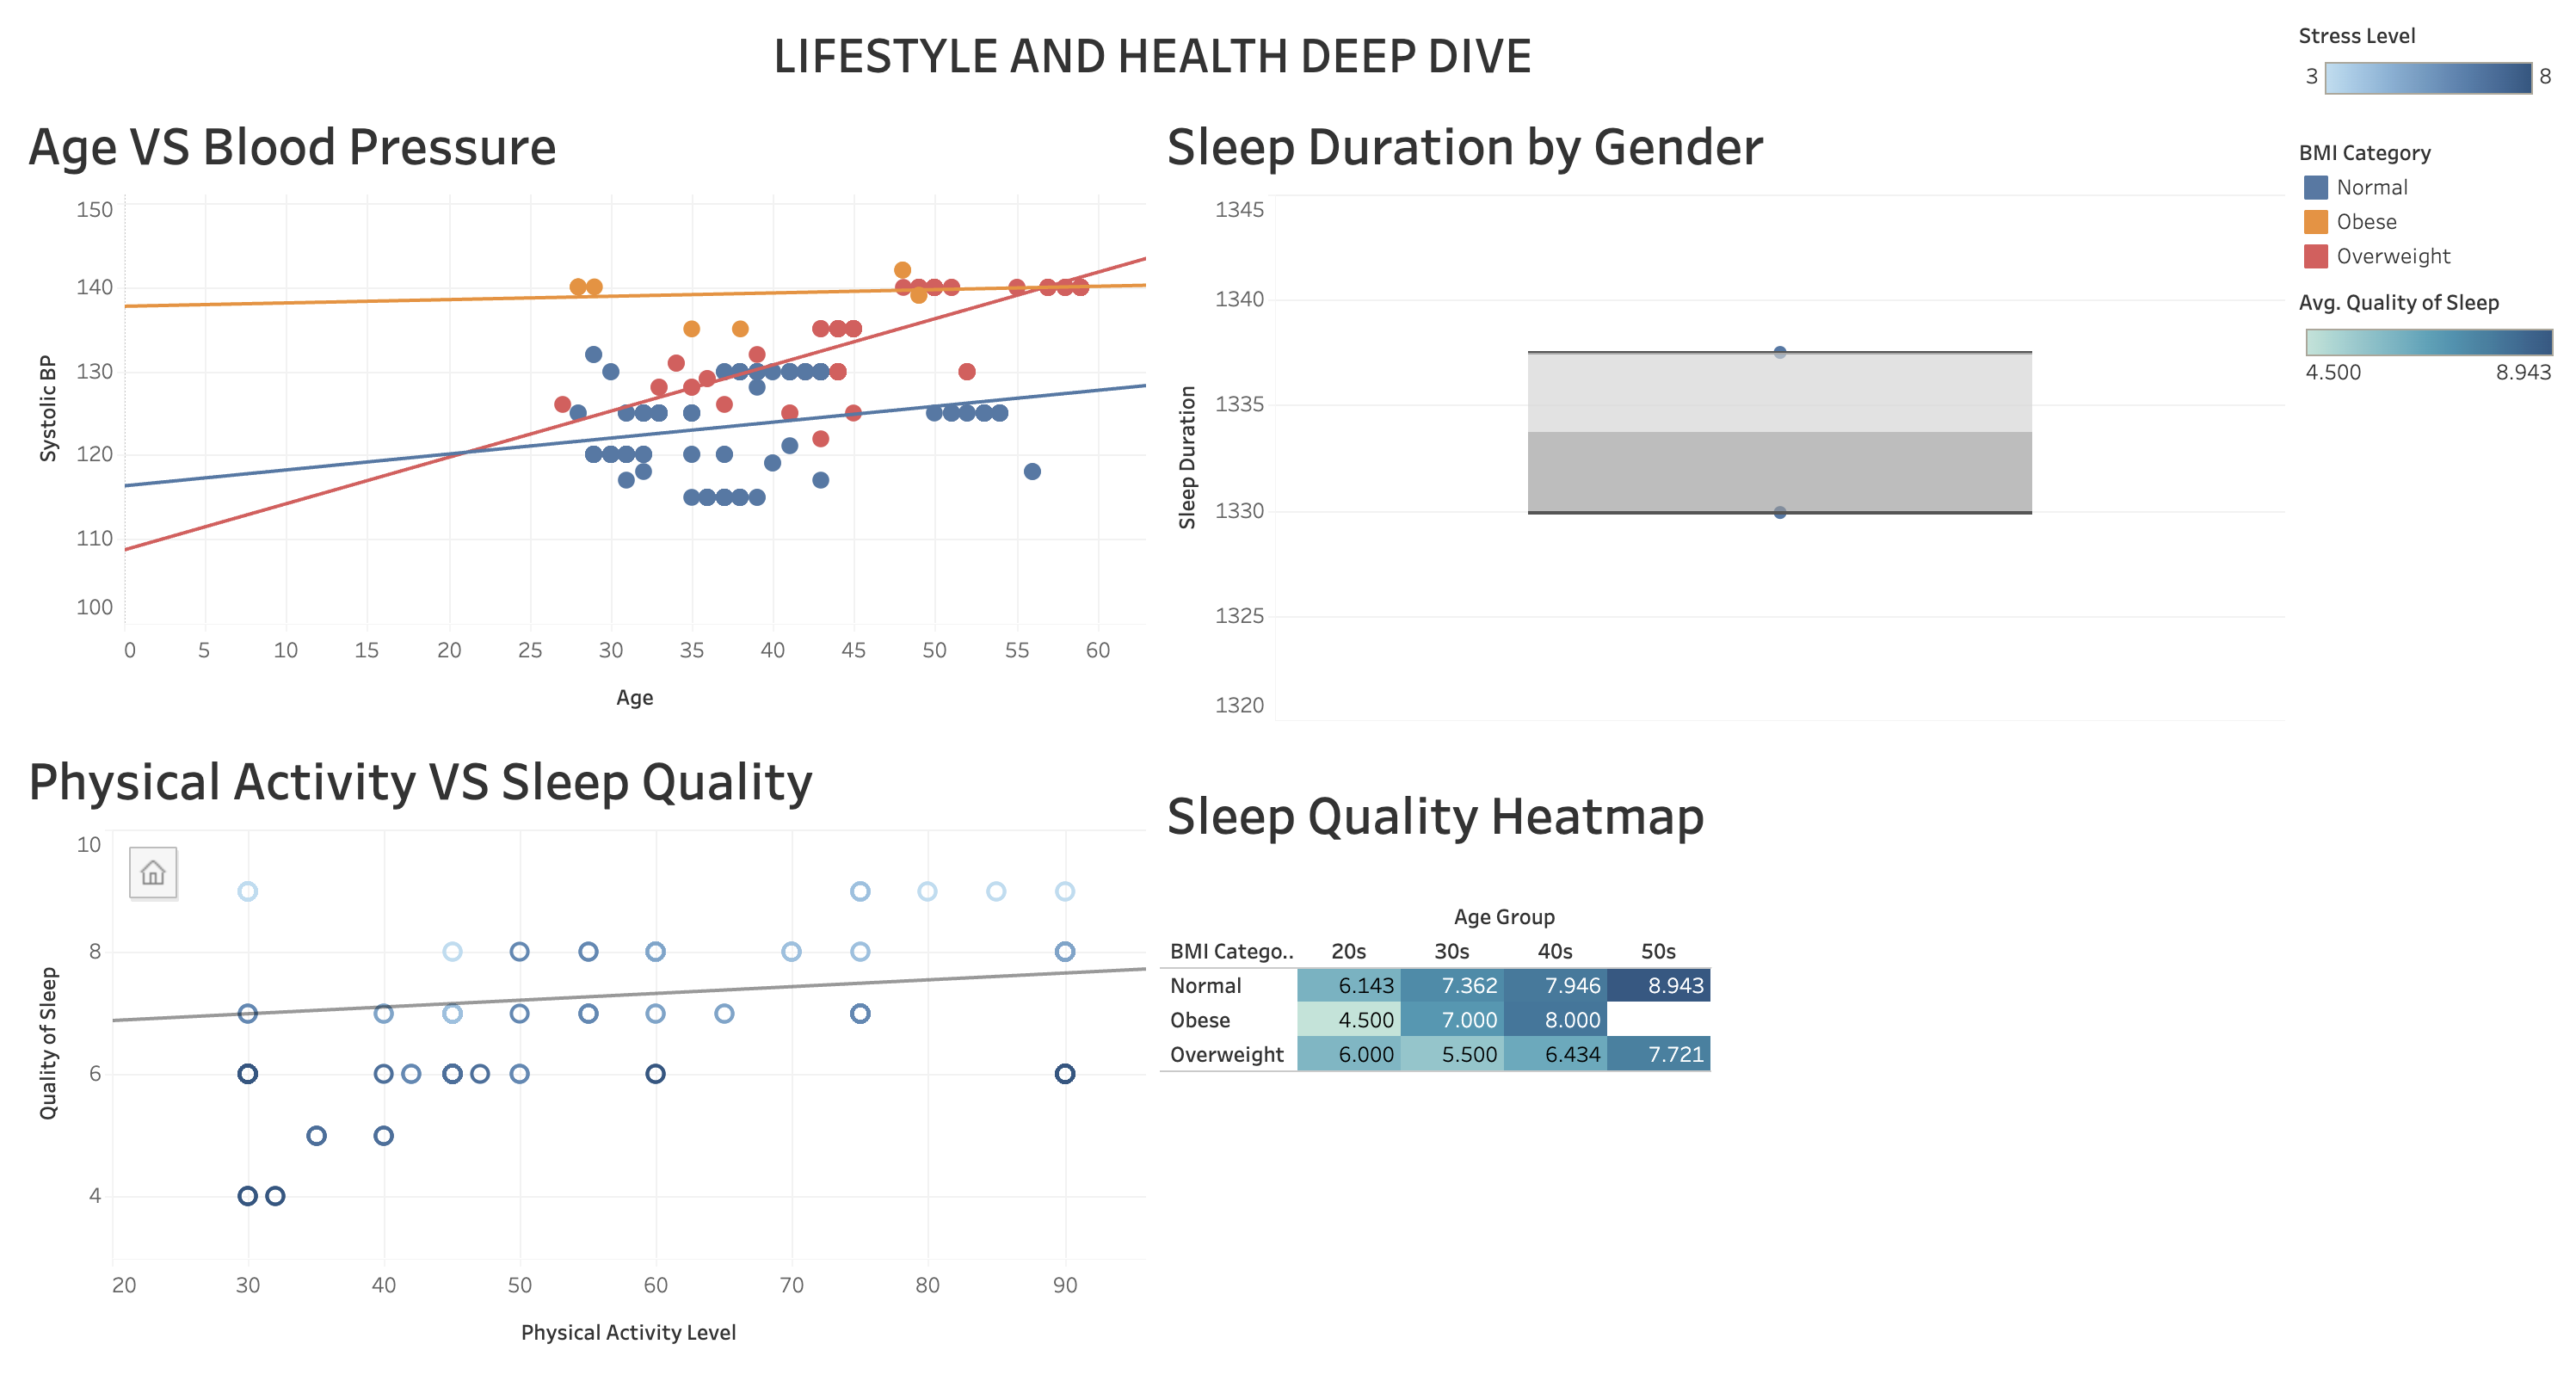

The dashboard page shown, as its layout file describes it:
{"tool":"tableau","page":{"name":"LIFESTYLE AND HEALTH DEEP DIVE","canvas":[1500,800],"ordinal":0},"visuals":[{"type":"title","box":[8,8,1324,46]},{"type":"legend","title":"Physical Activity VS Sleep Quality","param":"[federated.0omo3z81si9rll17qexzf0kaii55].[sum:Stress Level:qk]","box":[1332,8,160,68]},{"type":"worksheet","title":"Age VS Blood Pressure","mark":"Automatic","rows":["Calculation_0014546355241023"],"cols":["Age"],"box":[8,54,662,369]},{"type":"worksheet","title":"Sleep Duration by Gender","mark":"Circle","rows":["Sleep Duration"],"box":[670,54,662,369]},{"type":"legend","title":"Age VS Blood Pressure","param":"[federated.0omo3z81si9rll17qexzf0kaii55].[none:BMI Category:nk]","box":[1332,76,160,87]},{"type":"legend","title":"Sleep Quality Heatmap","param":"[federated.0omo3z81si9rll17qexzf0kaii55].[avg:Quality of Sleep:qk]","box":[1332,163,160,68]},{"type":"worksheet","title":"Physical Activity VS Sleep Quality","mark":"Automatic","rows":["Quality of Sleep"],"cols":["Physical Activity Level"],"box":[8,423,662,369]},{"type":"worksheet","title":"Sleep Quality Heatmap","mark":"Square","rows":["BMI Category"],"cols":["Calculation_0014546355556417"],"box":[670,423,662,369]}]}

Visuals, with their boxes in screenshot pixels (x1, y1, x2, y2), scaled from the page's 1500x800 canvas onto the 2576x1375 screenshot:
title: {"x1": 14, "y1": 14, "x2": 2288, "y2": 93}
"Physical Activity VS Sleep Quality" legend: {"x1": 2288, "y1": 14, "x2": 2562, "y2": 131}
"Age VS Blood Pressure" worksheet: {"x1": 14, "y1": 93, "x2": 1150, "y2": 727}
"Sleep Duration by Gender" worksheet (Circle marks): {"x1": 1150, "y1": 93, "x2": 2288, "y2": 727}
"Age VS Blood Pressure" legend: {"x1": 2288, "y1": 131, "x2": 2562, "y2": 281}
"Sleep Quality Heatmap" legend: {"x1": 2288, "y1": 281, "x2": 2562, "y2": 397}
"Physical Activity VS Sleep Quality" worksheet: {"x1": 14, "y1": 727, "x2": 1150, "y2": 1361}
"Sleep Quality Heatmap" worksheet (Square marks): {"x1": 1150, "y1": 727, "x2": 2288, "y2": 1361}
